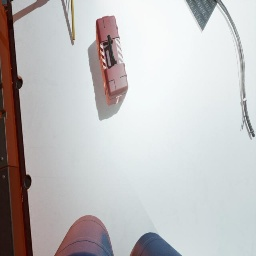FirstAidBox ,: (96, 15, 128, 106)
